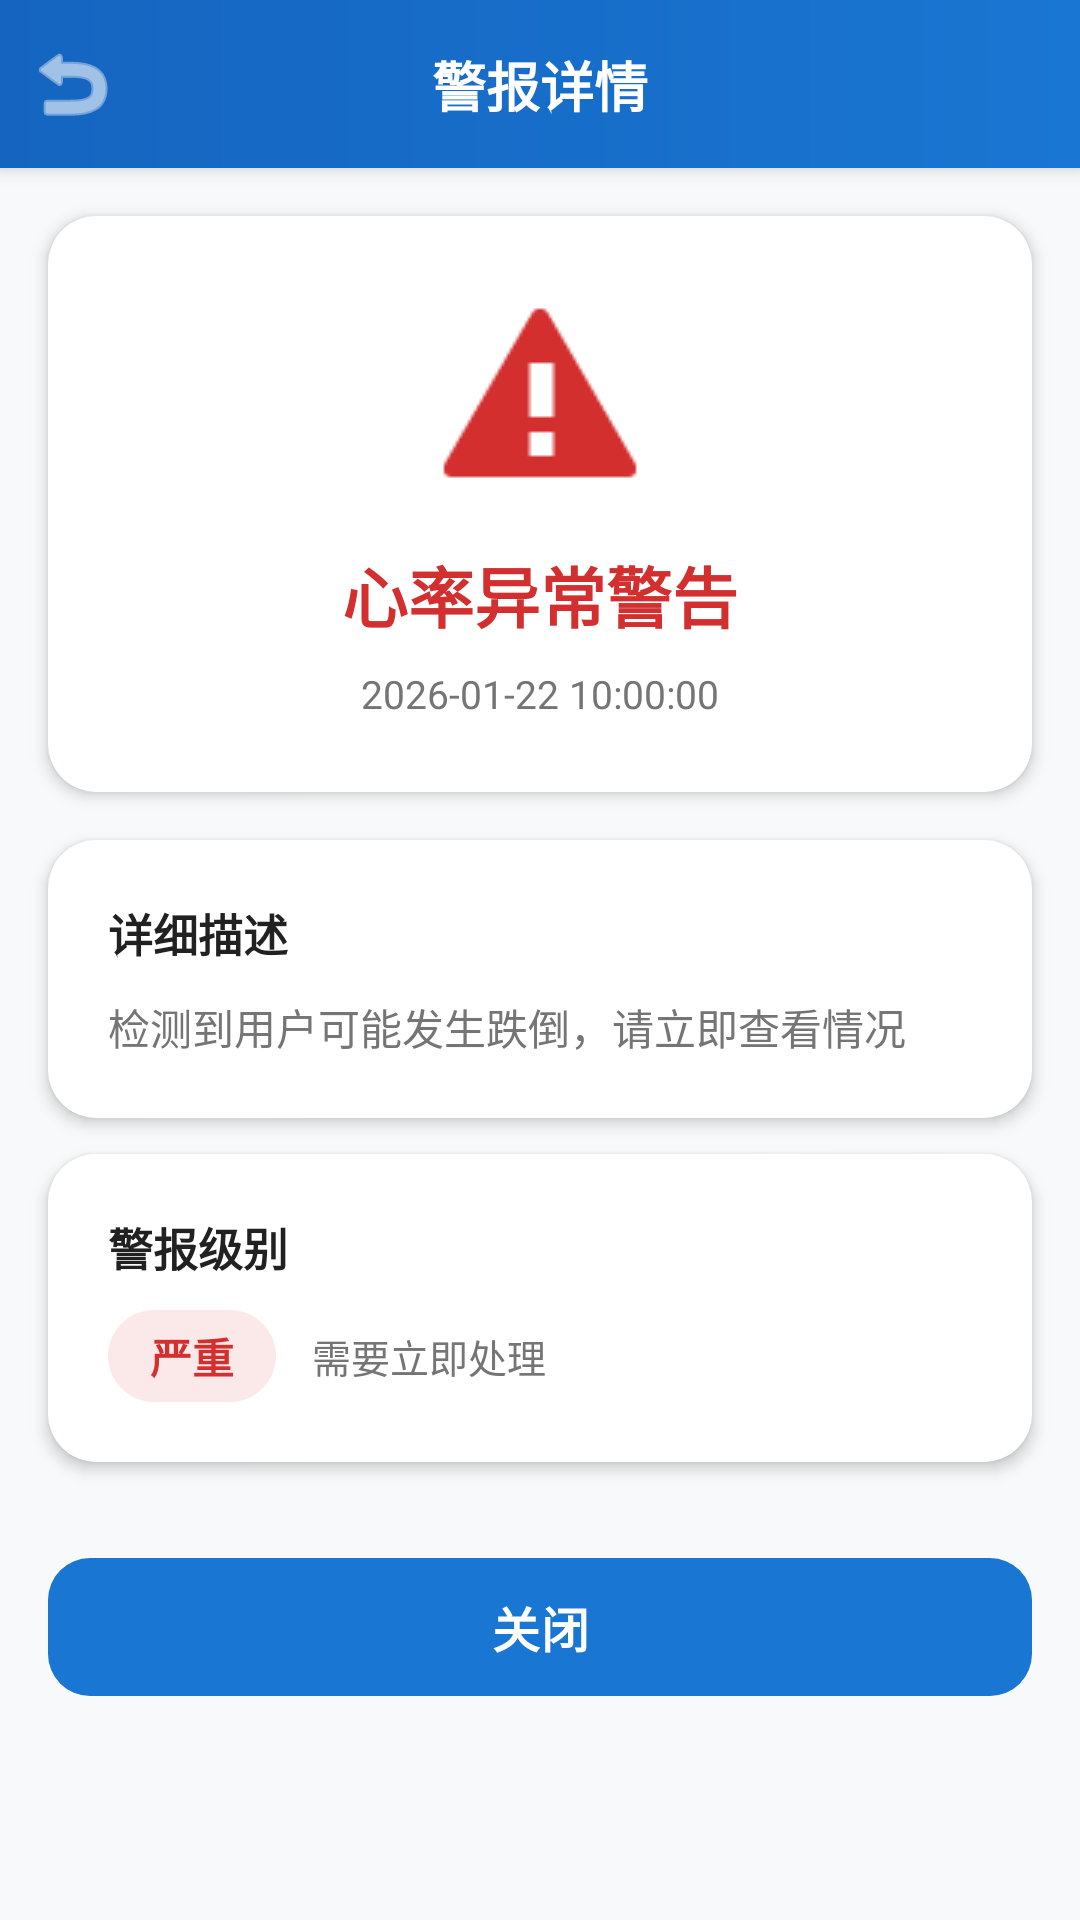

Locate icon controls on the screen. Image size 1080x1920, boxes as [x1=x1, y1=y1, x2=x2, y2=y2].
error: [x1=443, y1=308, x2=637, y2=478]
返回: [x1=39, y1=53, x2=108, y2=116]
